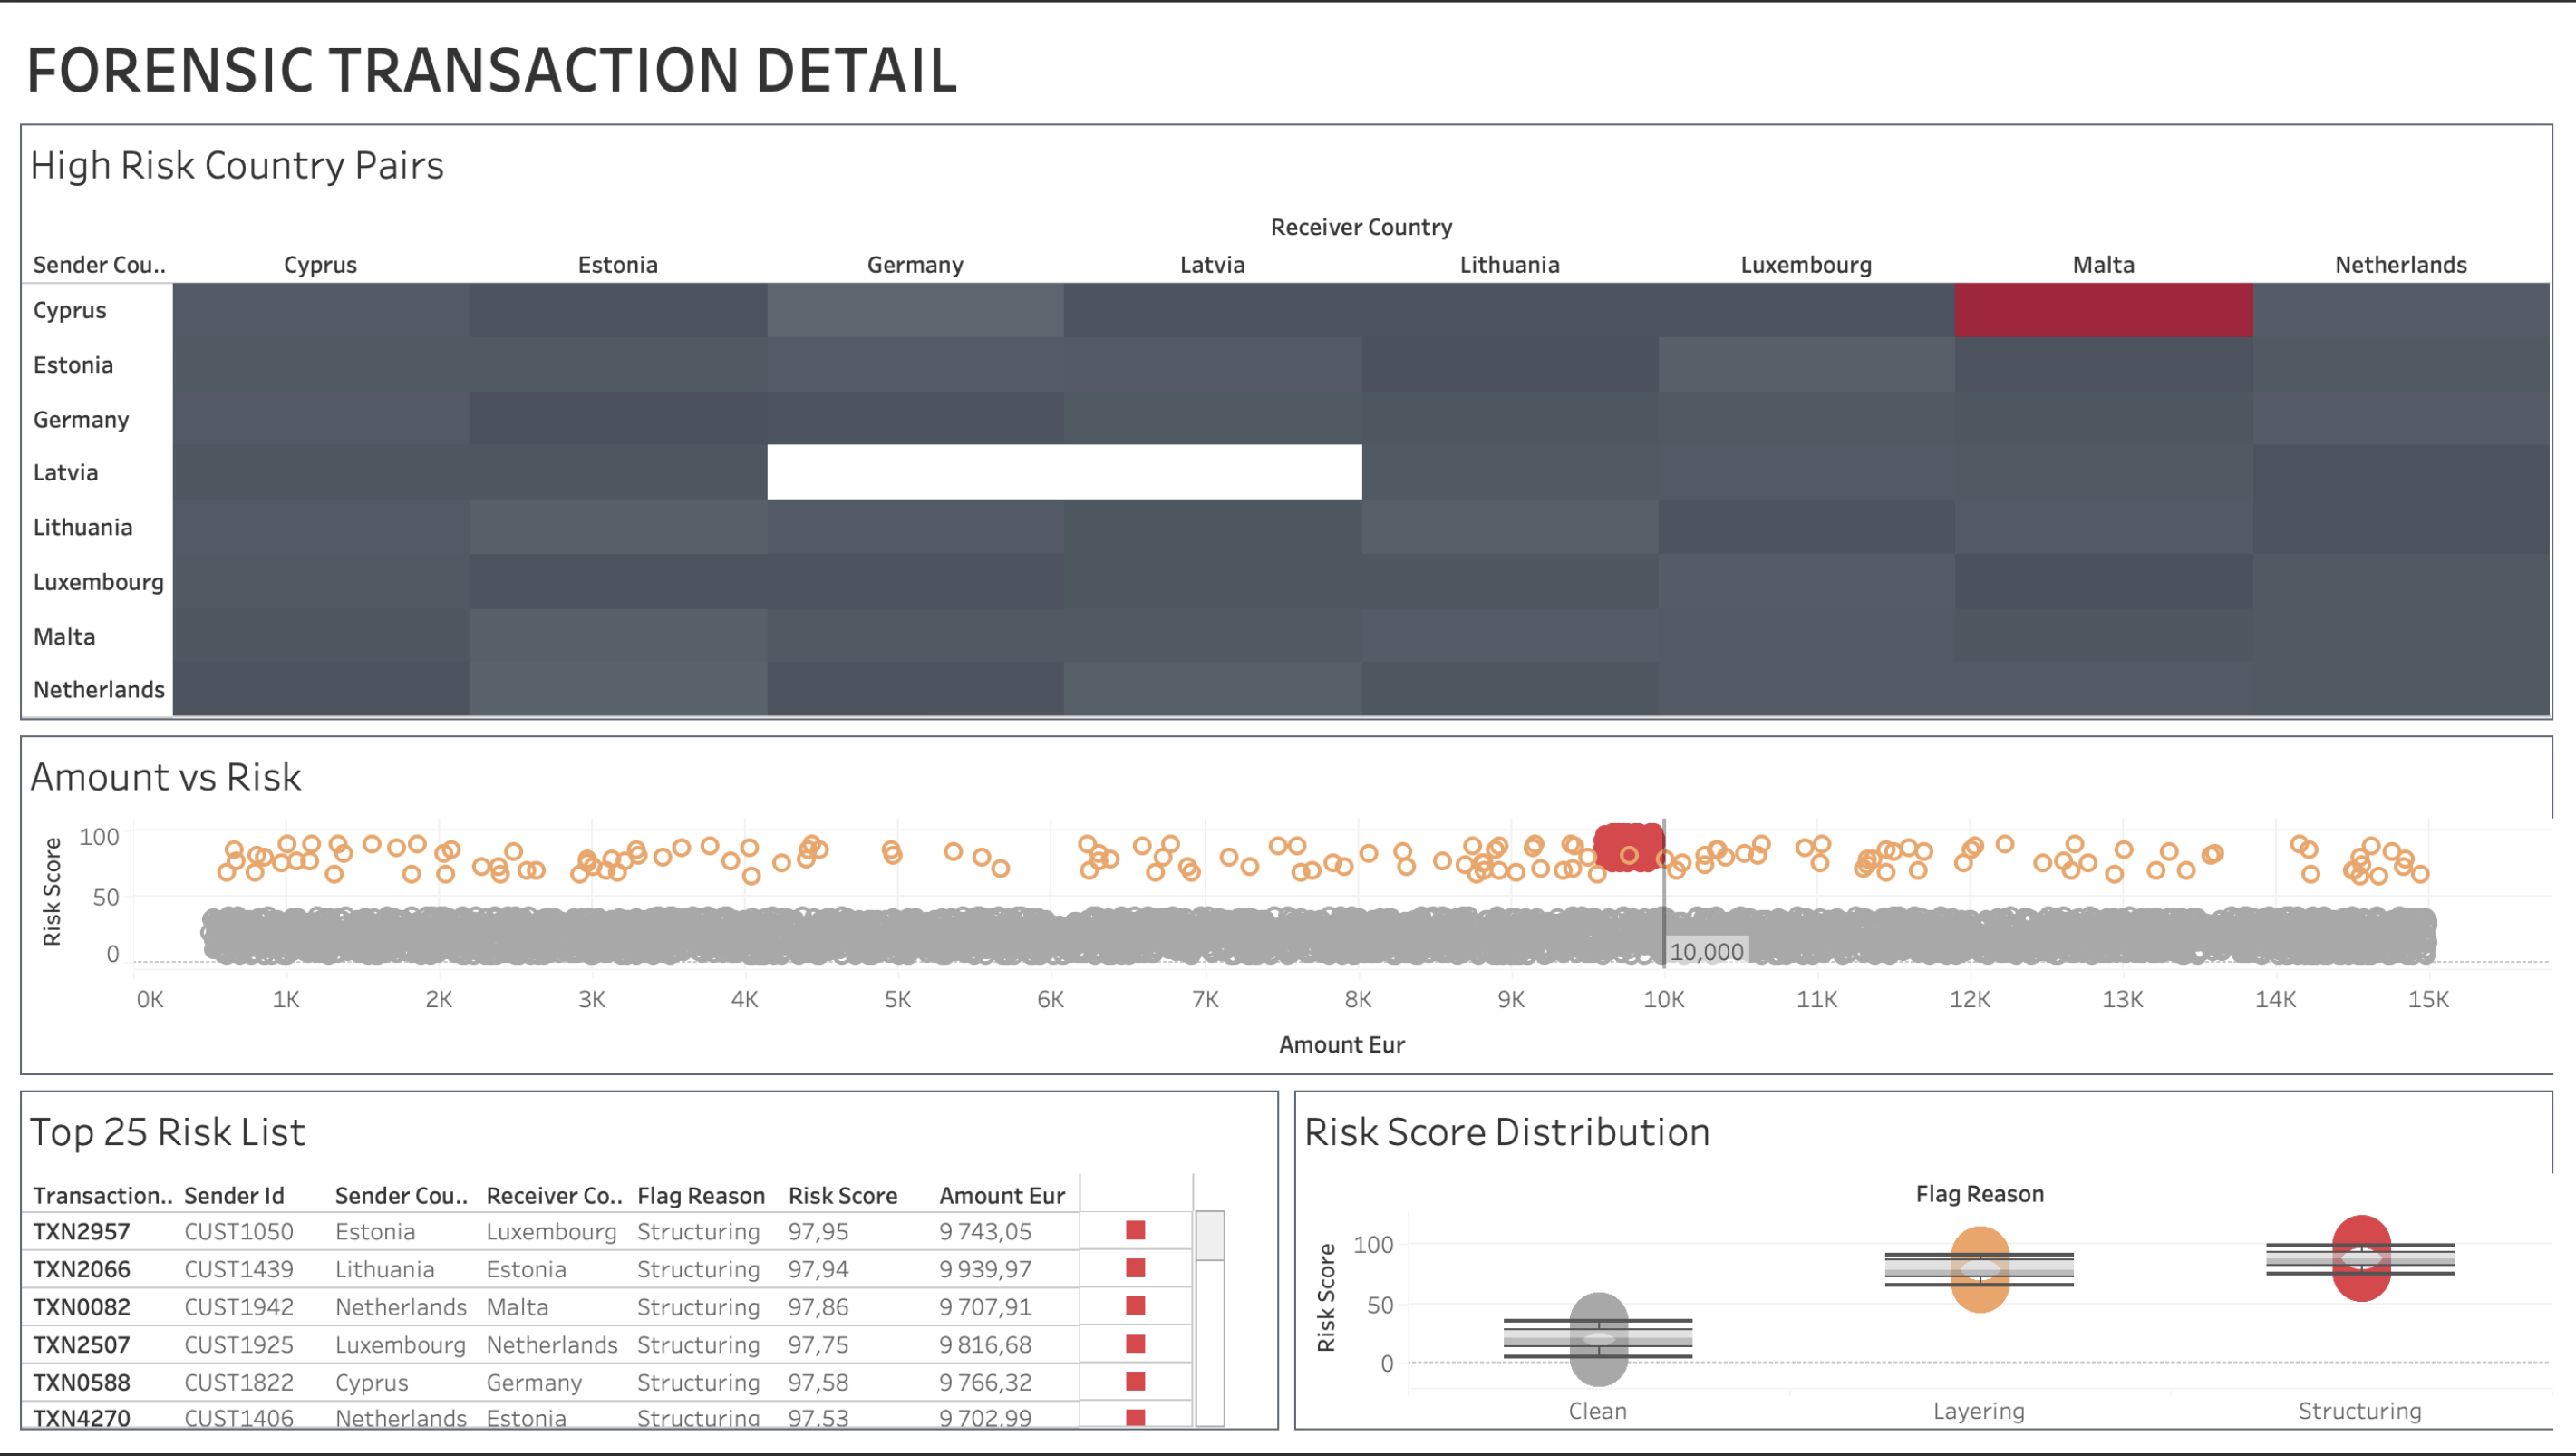

This screenshot's page, from the dashboard's own definition file:
{"tool":"tableau","page":{"name":"FORENSIC TRANSACTION DETAIL","canvas":[1366,768],"ordinal":1},"visuals":[{"type":"title","box":[8,8,1350,52]},{"type":"worksheet","title":"High Risk Country Pairs","mark":"Square","rows":["sender_country"],"cols":["receiver_country"],"box":[8,60,1350,324]},{"type":"worksheet","title":"Amount vs Risk","mark":"Automatic","rows":["risk_score"],"cols":["amount_eur"],"box":[8,384,1350,188]},{"type":"worksheet","title":"Top 25 Risk List","mark":"Automatic","rows":["transaction_id","sender_id","sender_country","receiver_country","flag_reason","risk_score","amount_eur"],"box":[8,572,675,188]},{"type":"worksheet","title":"Risk Score Distribution","mark":"Automatic","rows":["risk_score"],"cols":["flag_reason"],"box":[683,572,675,188]}]}

Visuals, with their boxes in screenshot pixels (x1, y1, x2, y2), scaled from the page's 1366x768 canvas onto the 2576x1456 screenshot:
title: {"left": 15, "top": 15, "right": 2561, "bottom": 113}
"High Risk Country Pairs" worksheet (Square marks): {"left": 15, "top": 113, "right": 2561, "bottom": 728}
"Amount vs Risk" worksheet: {"left": 15, "top": 728, "right": 2561, "bottom": 1084}
"Top 25 Risk List" worksheet: {"left": 15, "top": 1084, "right": 1288, "bottom": 1441}
"Risk Score Distribution" worksheet: {"left": 1288, "top": 1084, "right": 2561, "bottom": 1441}
